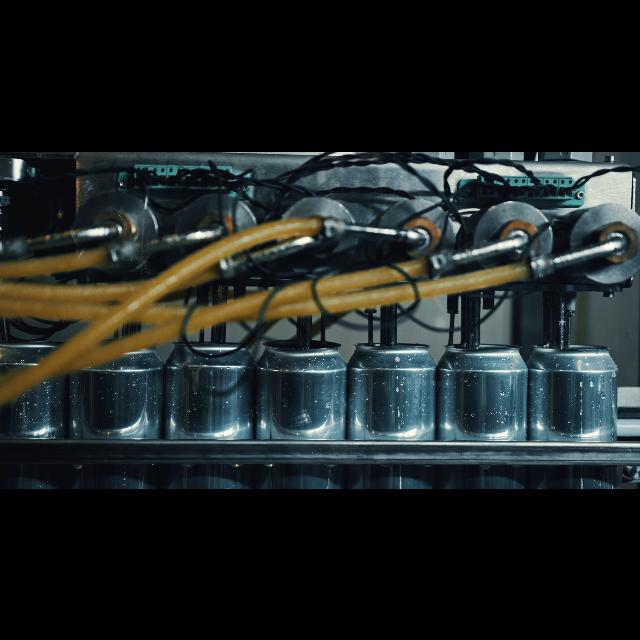empty: (531, 330, 619, 488), (165, 332, 252, 488), (262, 329, 344, 489), (72, 339, 158, 488), (441, 336, 524, 488), (353, 334, 432, 488), (4, 334, 60, 488)
